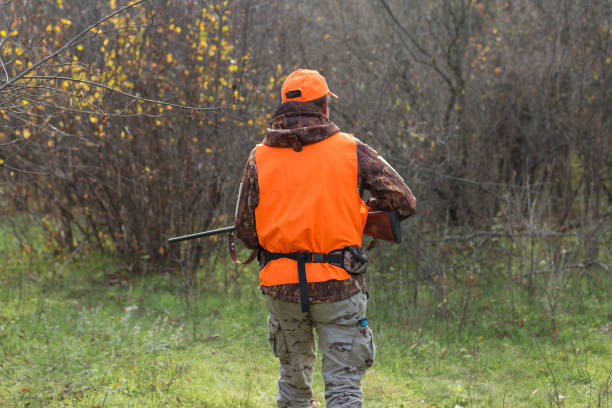gun: (166, 210, 403, 245)
